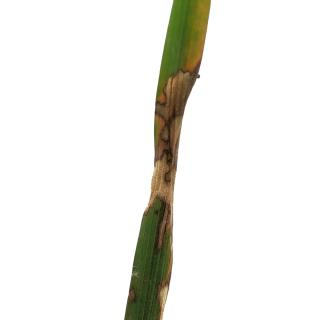Hawar-Daun: (158, 50, 199, 105), (151, 102, 183, 156), (147, 160, 175, 208), (156, 204, 174, 256), (151, 275, 171, 309)
